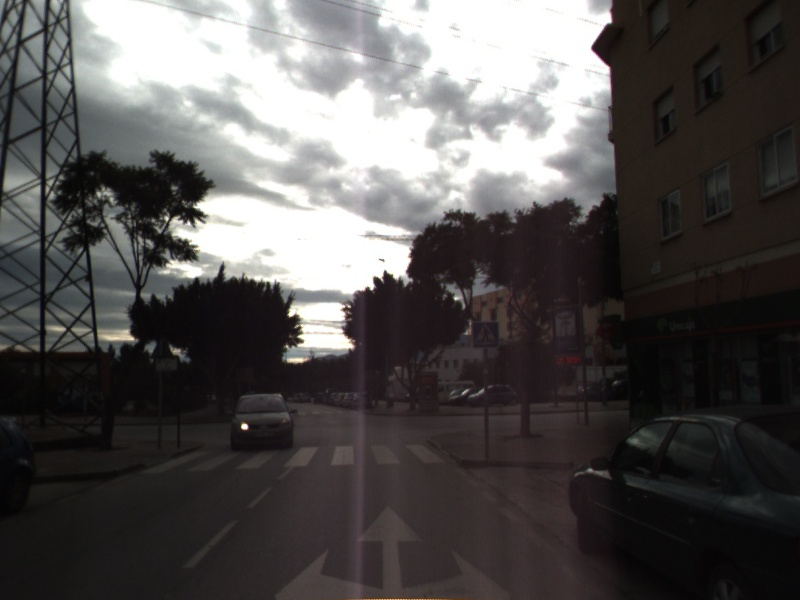STRAIGHT_LEFT_RIGHT: (269, 502, 515, 600)
